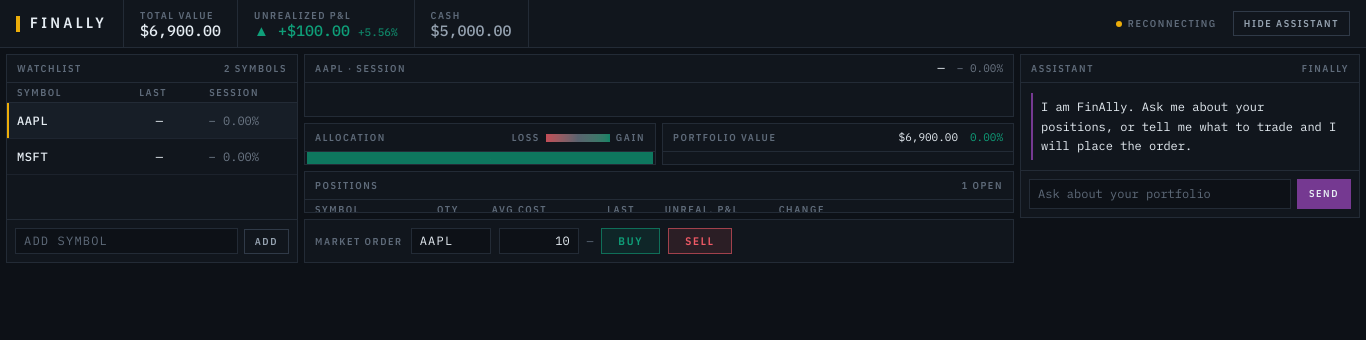
Test: Workstation › re-reads the portfolio after the assistant trades
Expected: the button with test id "watchlist-row-AAPL" is shown, [7,103,297,139]
Type "Buy 2 MSFT" into the field with test id "chat-input" at (1160, 194), box [1029,178,1291,208]
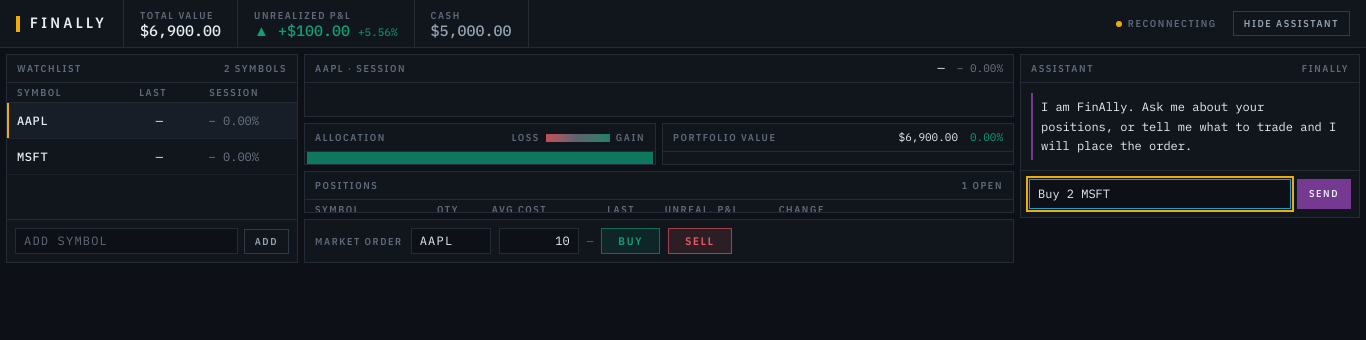
Click the button with test id "chat-send" at (1324, 194), box [1297,178,1351,208]
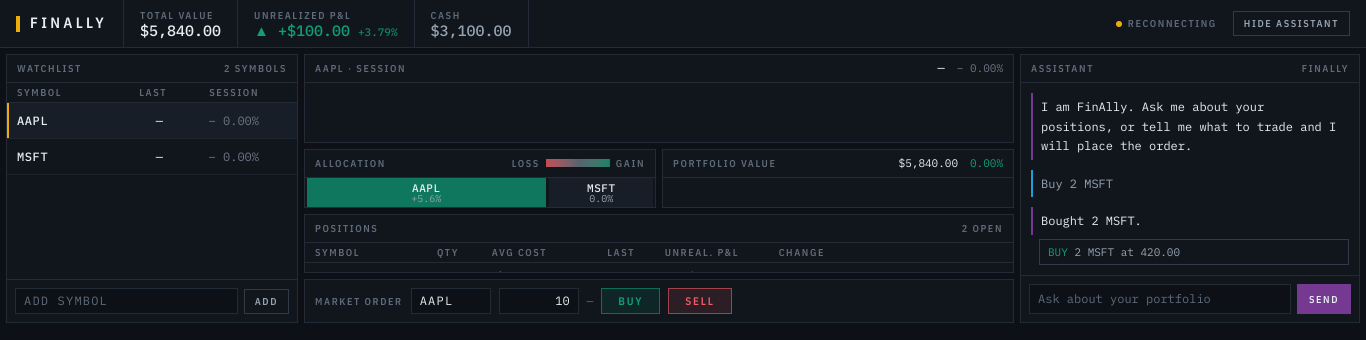
Result: the element with test id "header-cash" reads "$3,100.00" at [431,20,512,40]
